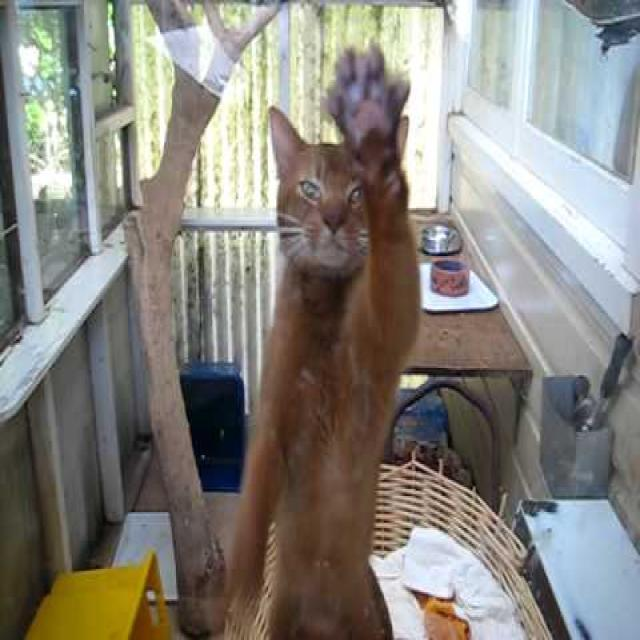Abyssinian: (263, 94, 410, 296)
